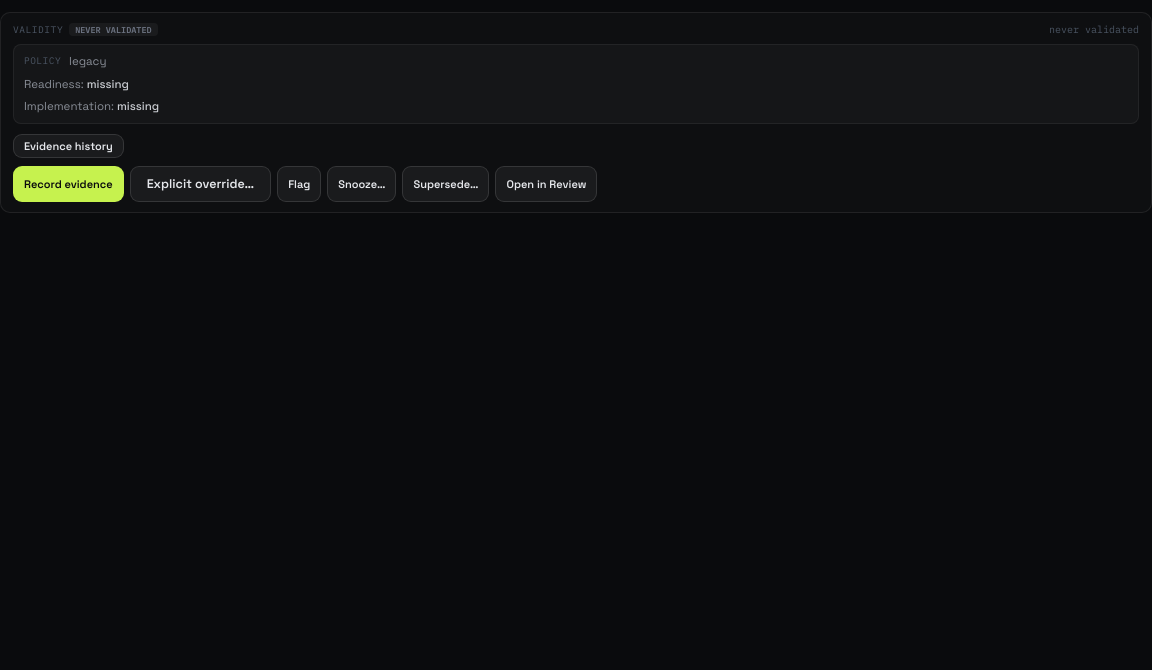
it: ValidityStrip › requires evidence instead of recording an assertion on click
This screenshot has width=1152, height=670.
Click the button "Record evidence": (68, 184) [13,166,124,202]
(page scrolled)
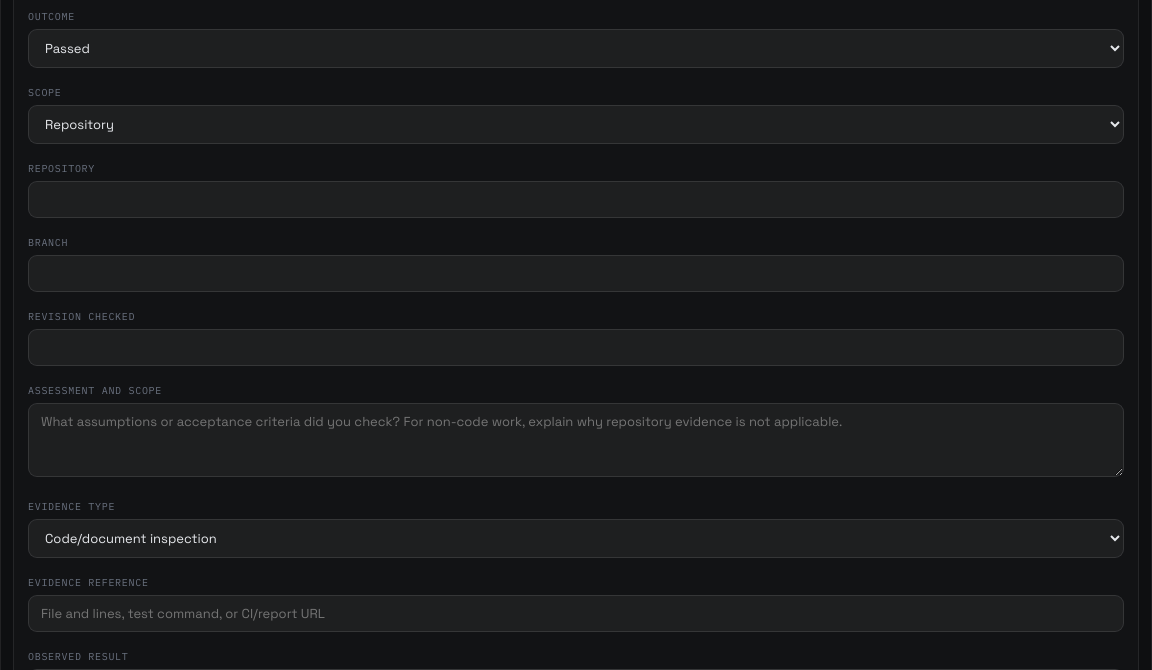
Now the text "Revision checked" is shown, box [28,310,135,323]
